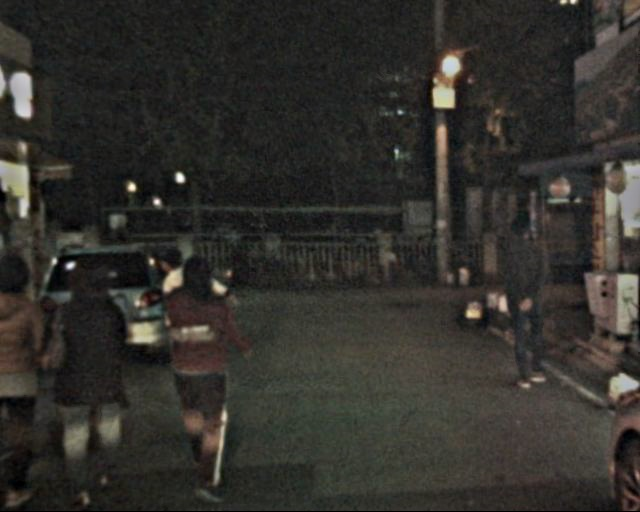person: (43, 241, 139, 495), (148, 245, 242, 494), (1, 249, 51, 501), (491, 210, 557, 398), (159, 238, 220, 410)
